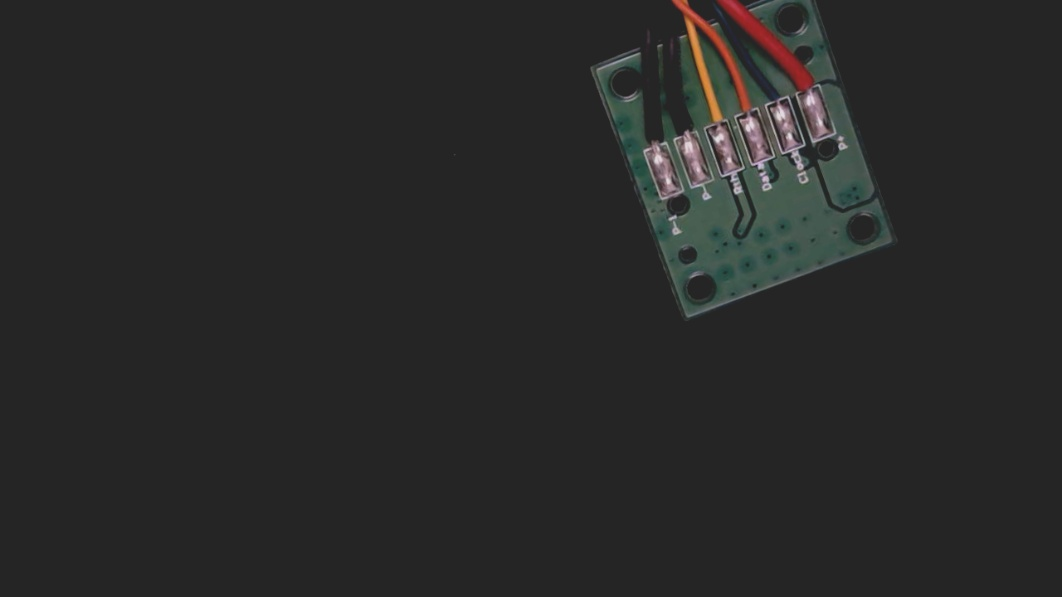Black: (659, 91, 703, 156)
Black1: (631, 108, 671, 164)
Green: (756, 66, 794, 120)
Orange: (723, 75, 763, 134)
Red: (782, 50, 825, 112)
Yellow: (690, 79, 732, 145)
